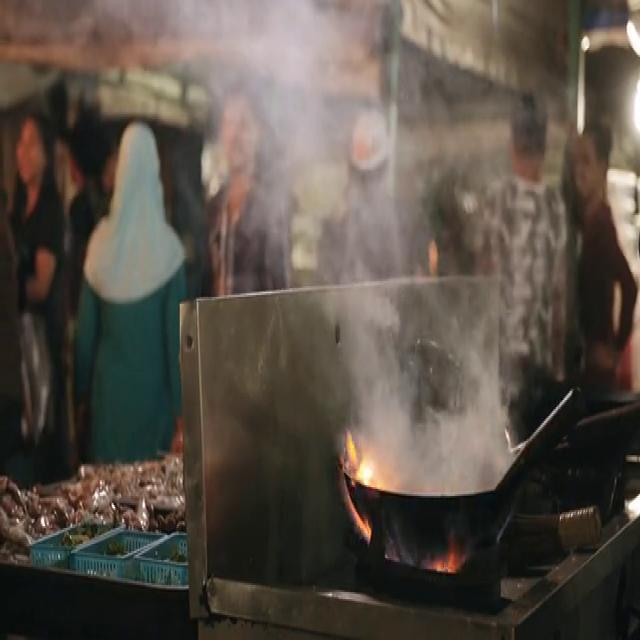smoke: (316, 272, 500, 472), (216, 22, 364, 242)
